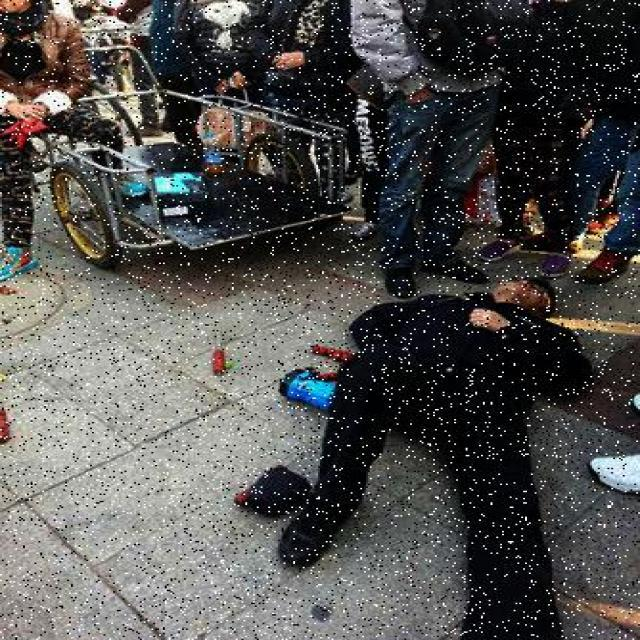fall: (299, 277, 575, 638)
